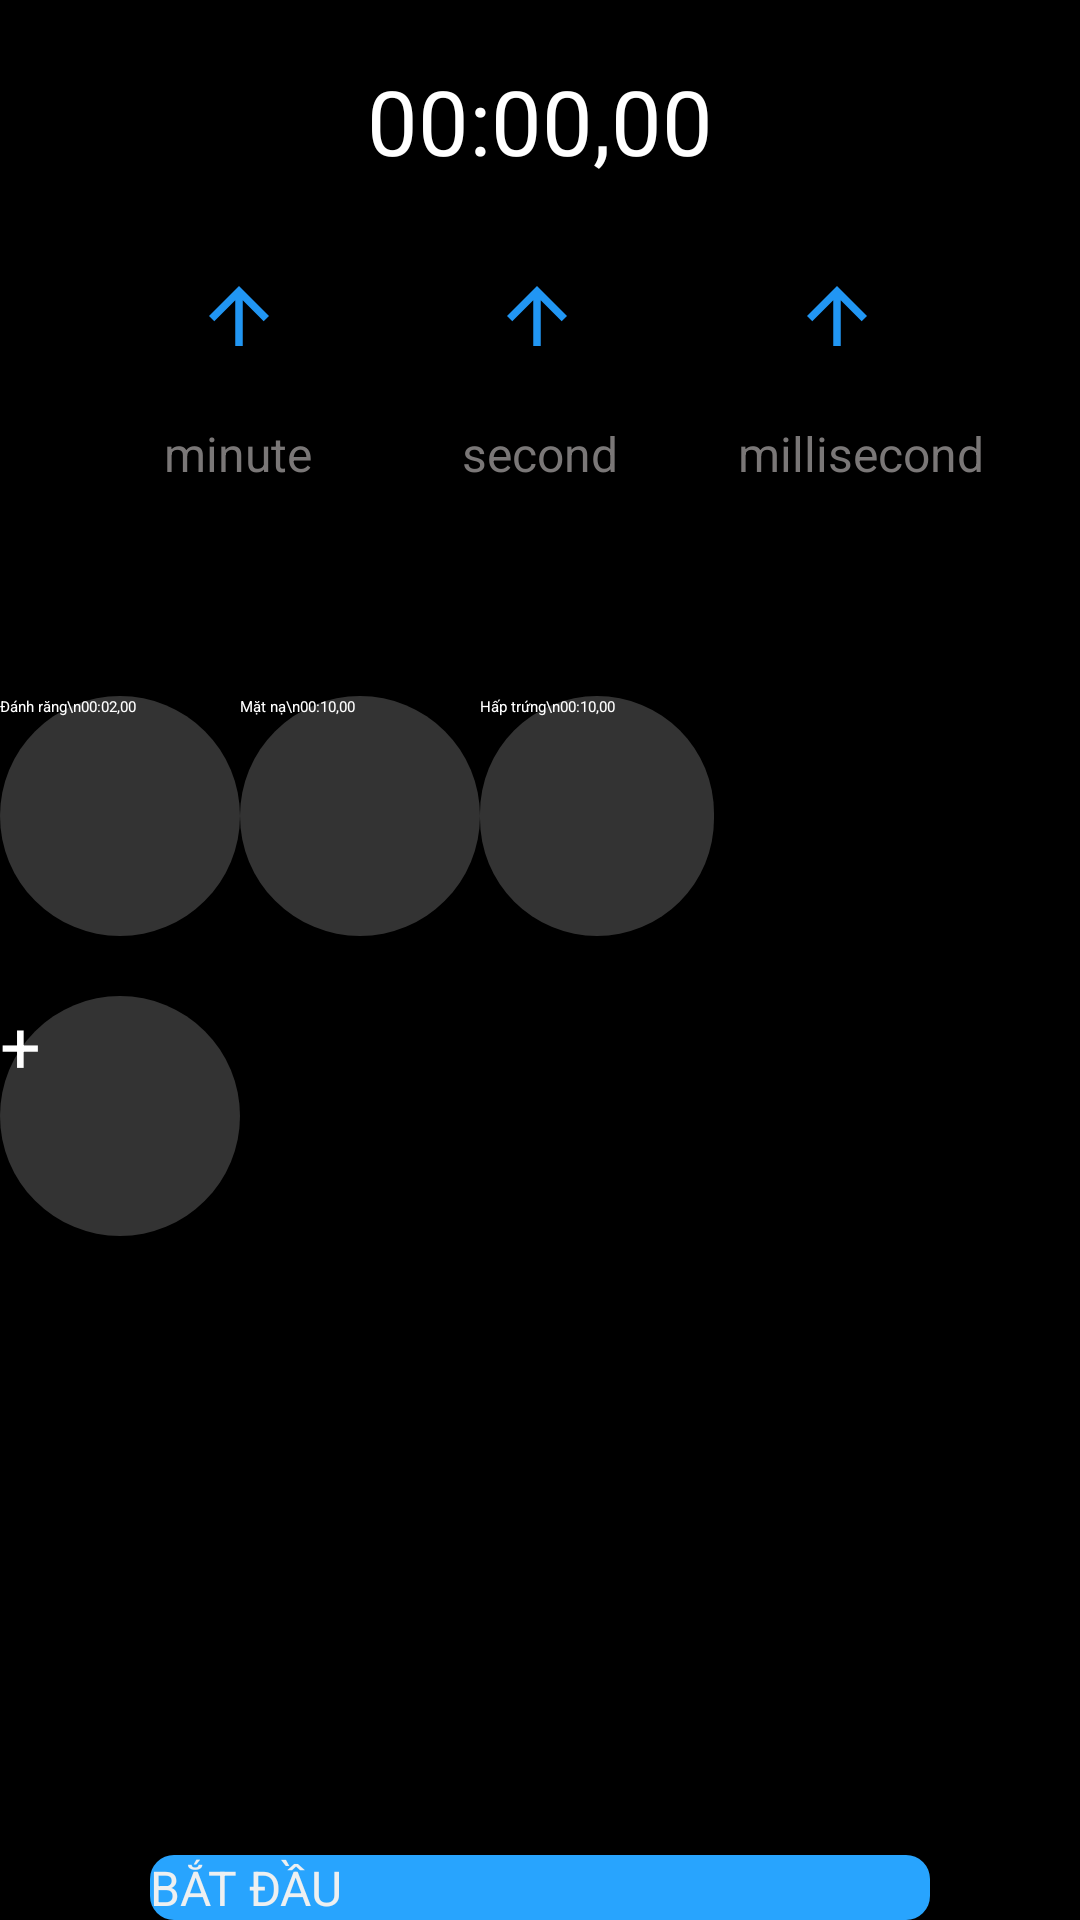

Icon click points for this 1080x1920 phone screenshot, format point (x, y):
arrow upward: point (239, 316), point (537, 316), point (837, 316)
